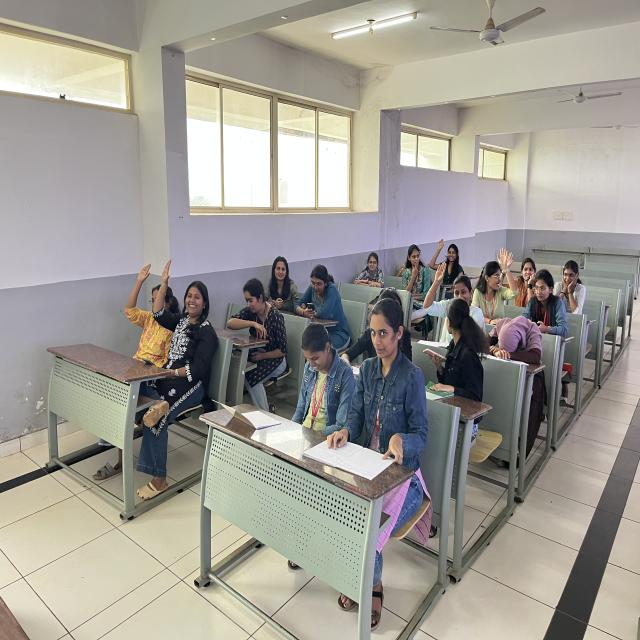Hand Rising: (155, 248, 215, 410), (122, 256, 178, 364), (475, 240, 520, 322), (426, 260, 476, 330), (428, 234, 462, 286)
Sleeping: (481, 310, 549, 386)
Using Phone: (417, 296, 492, 401), (286, 315, 350, 427), (296, 262, 348, 332)
